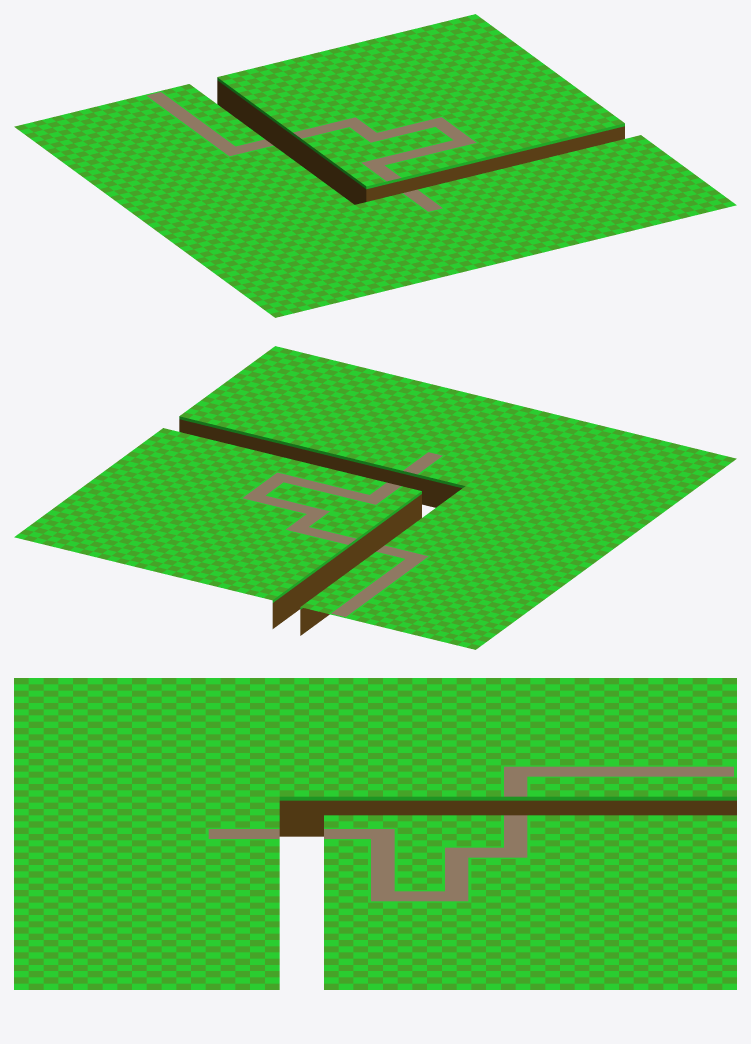
The model's file is Map 01 - 3.fbx.
3 renders of one model, top to bottom at view 1: azimuth 30°, elevation 25°; view 2: azimuth 150°, elevation 25°; view 3: azimuth 270°, elevation 25°, orthographic. The views are drawn at different scales.
Visible parts, largest first — view 1: Plane.026, Plane.027; view 2: Plane.026, Plane.027; view 3: Plane.026, Plane.027.
Boxes of the visible parts, bbox=[...] form: Plane.026: bbox=[14, 14, 736, 317]; Plane.027: bbox=[146, 92, 476, 211]; Plane.026: bbox=[14, 346, 736, 649]; Plane.027: bbox=[242, 452, 442, 616]; Plane.026: bbox=[14, 678, 736, 989]; Plane.027: bbox=[208, 766, 733, 901].
Bounding box in the file's own units: 500 × 30 × 490.
